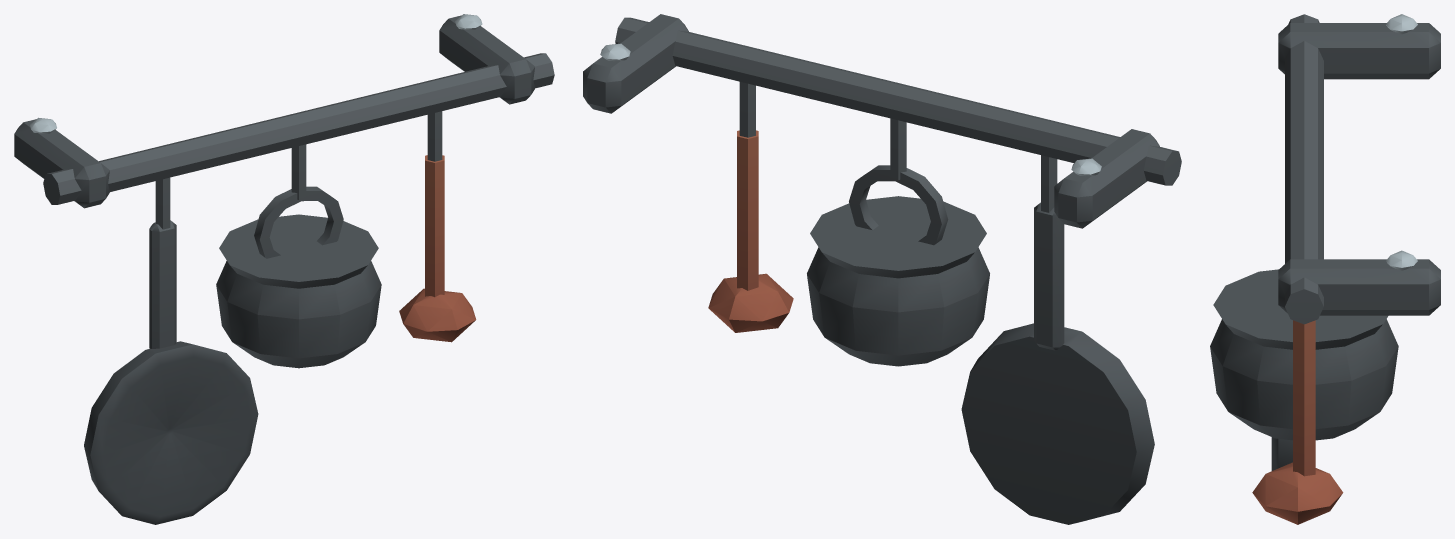
The model's file is pot_rack.glb.
3 views of the same model, side by side, from view 1: azimuth 30°, elevation 25°; view 2: azimuth 150°, elevation 25°; view 3: azimuth 270°, elevation 25° (orthographic). The views are drawn at different scales.
Parts seen in each view (by area): view 1: pot_rack; view 2: pot_rack; view 3: pot_rack.
Boxes of the visible parts, <box> form: pot_rack: <box>14,14,554,524</box>; pot_rack: <box>583,14,1181,524</box>; pot_rack: <box>1210,14,1440,524</box>.
Size of the model in its own units: 2 by 1.47 by 0.71.
Materials: 1 (1 with a texture image).
